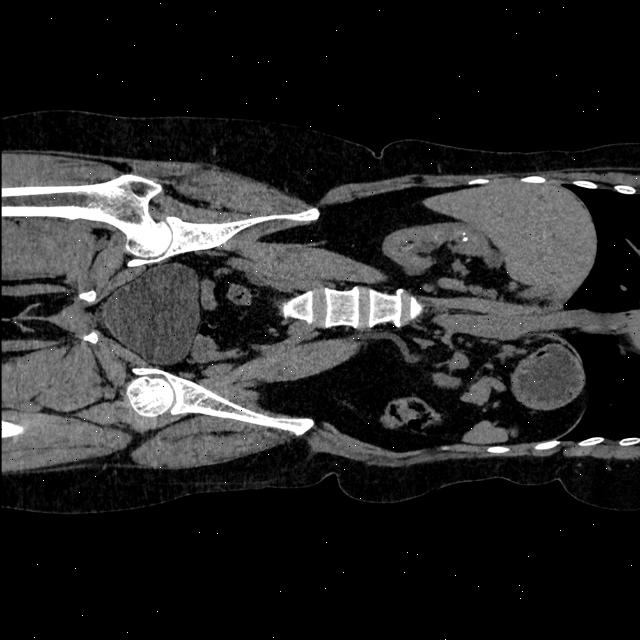kidneystone: (463, 236, 467, 241)
